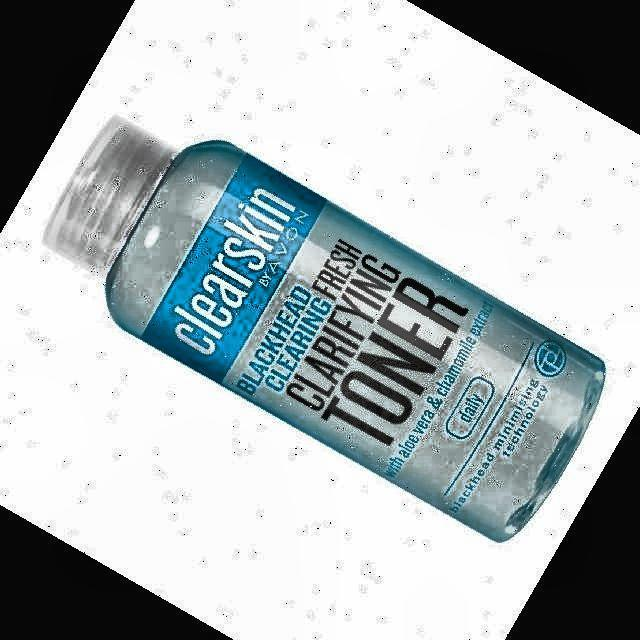plastic: (44, 118, 604, 541)
